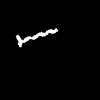half_double_crochet: (16, 29, 57, 46)
